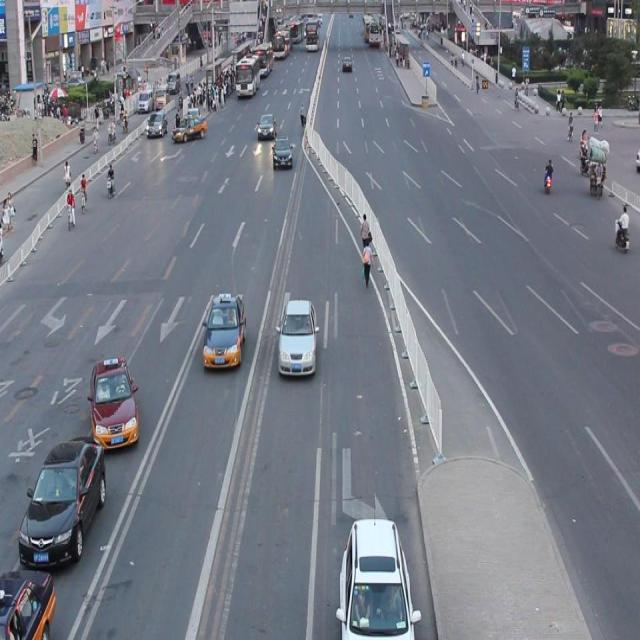car: (19, 432, 107, 566), (338, 513, 416, 640), (89, 354, 140, 452), (1, 565, 55, 640), (202, 291, 247, 370), (277, 296, 318, 378)
